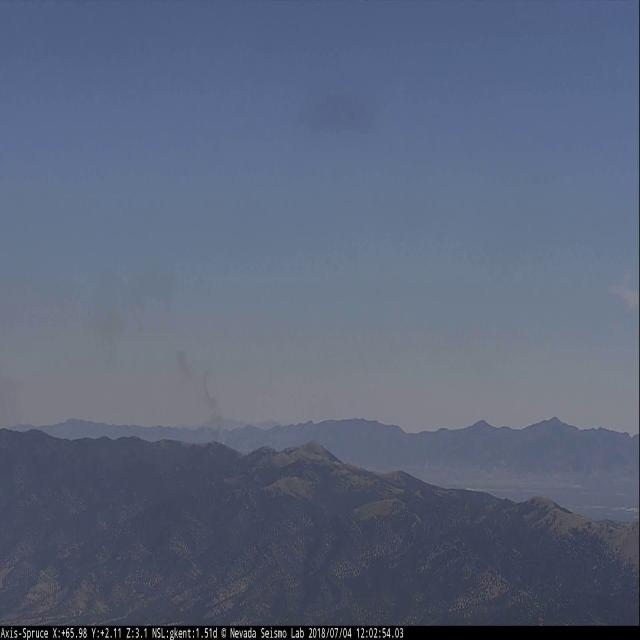smoke: (170, 336, 229, 456)
